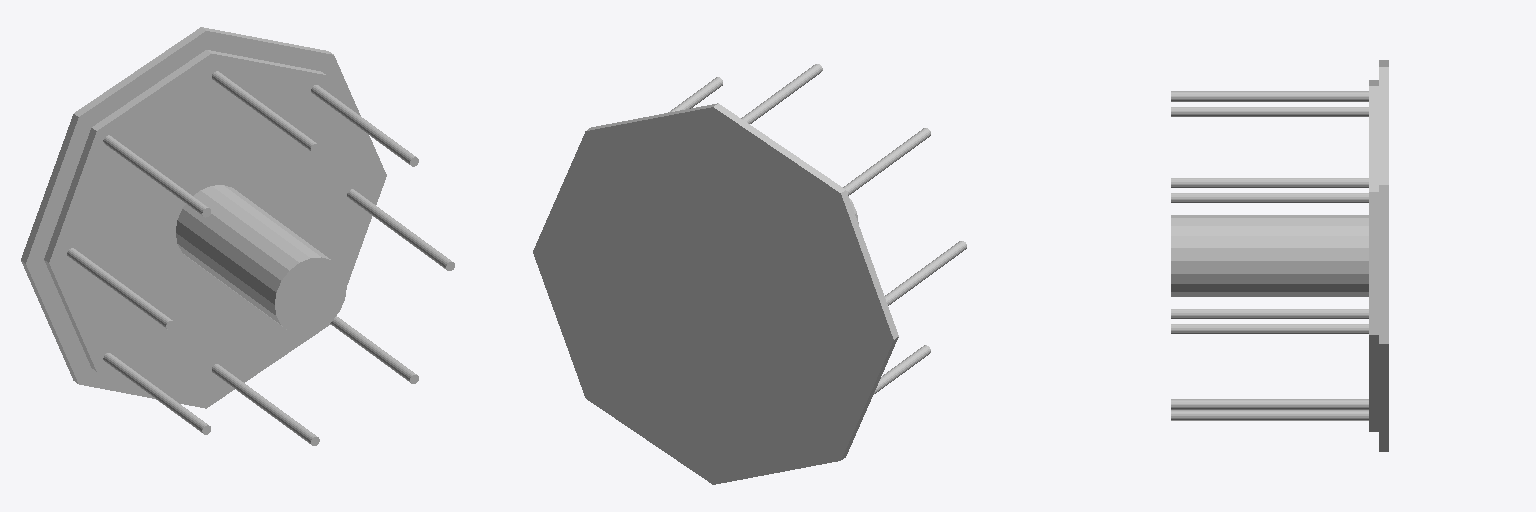
The model's file is carousel_base.obj.
3 views of the same model, side by side, from view 1: azimuth 30°, elevation 25°; view 2: azimuth 150°, elevation 25°; view 3: azimuth 270°, elevation 25° (orthographic).
Visible parts, largest first — view 1: group_[number redacted], group_[number redacted]; view 2: group_[number redacted], group_[number redacted]; view 3: group_[number redacted], group_[number redacted].
Boxes of the visible parts, <box> form: group_[number redacted]: <box>21,27,386,408</box>; group_[number redacted]: <box>67,71,454,445</box>; group_[number redacted]: <box>533,103,898,484</box>; group_[number redacted]: <box>668,64,966,393</box>; group_[number redacted]: <box>1171,91,1368,420</box>; group_[number redacted]: <box>1369,60,1388,451</box>.
Size of the model in its own units: 40 by 40 by 21.